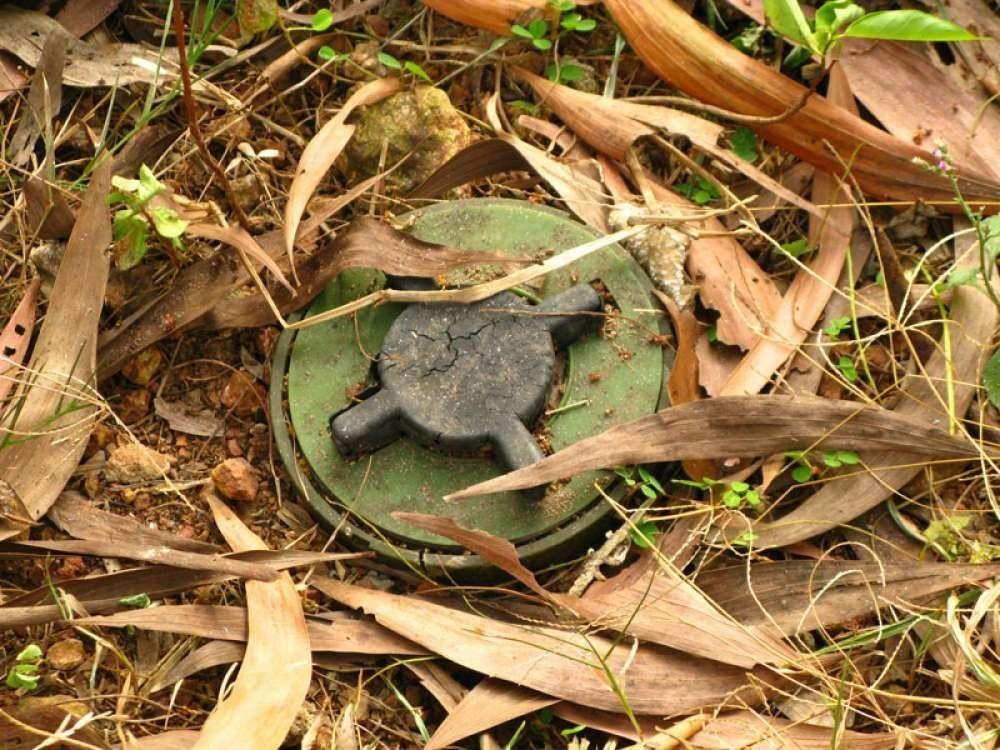pmn: (263, 193, 688, 590)
